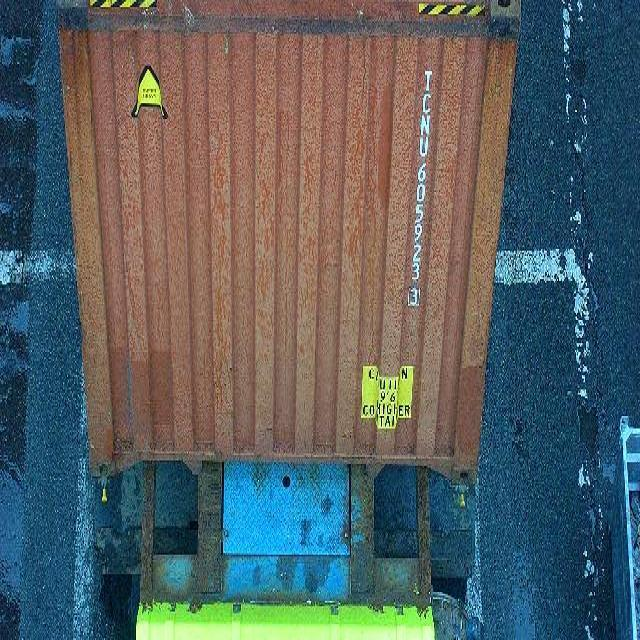container_number: (402, 52, 434, 314)
